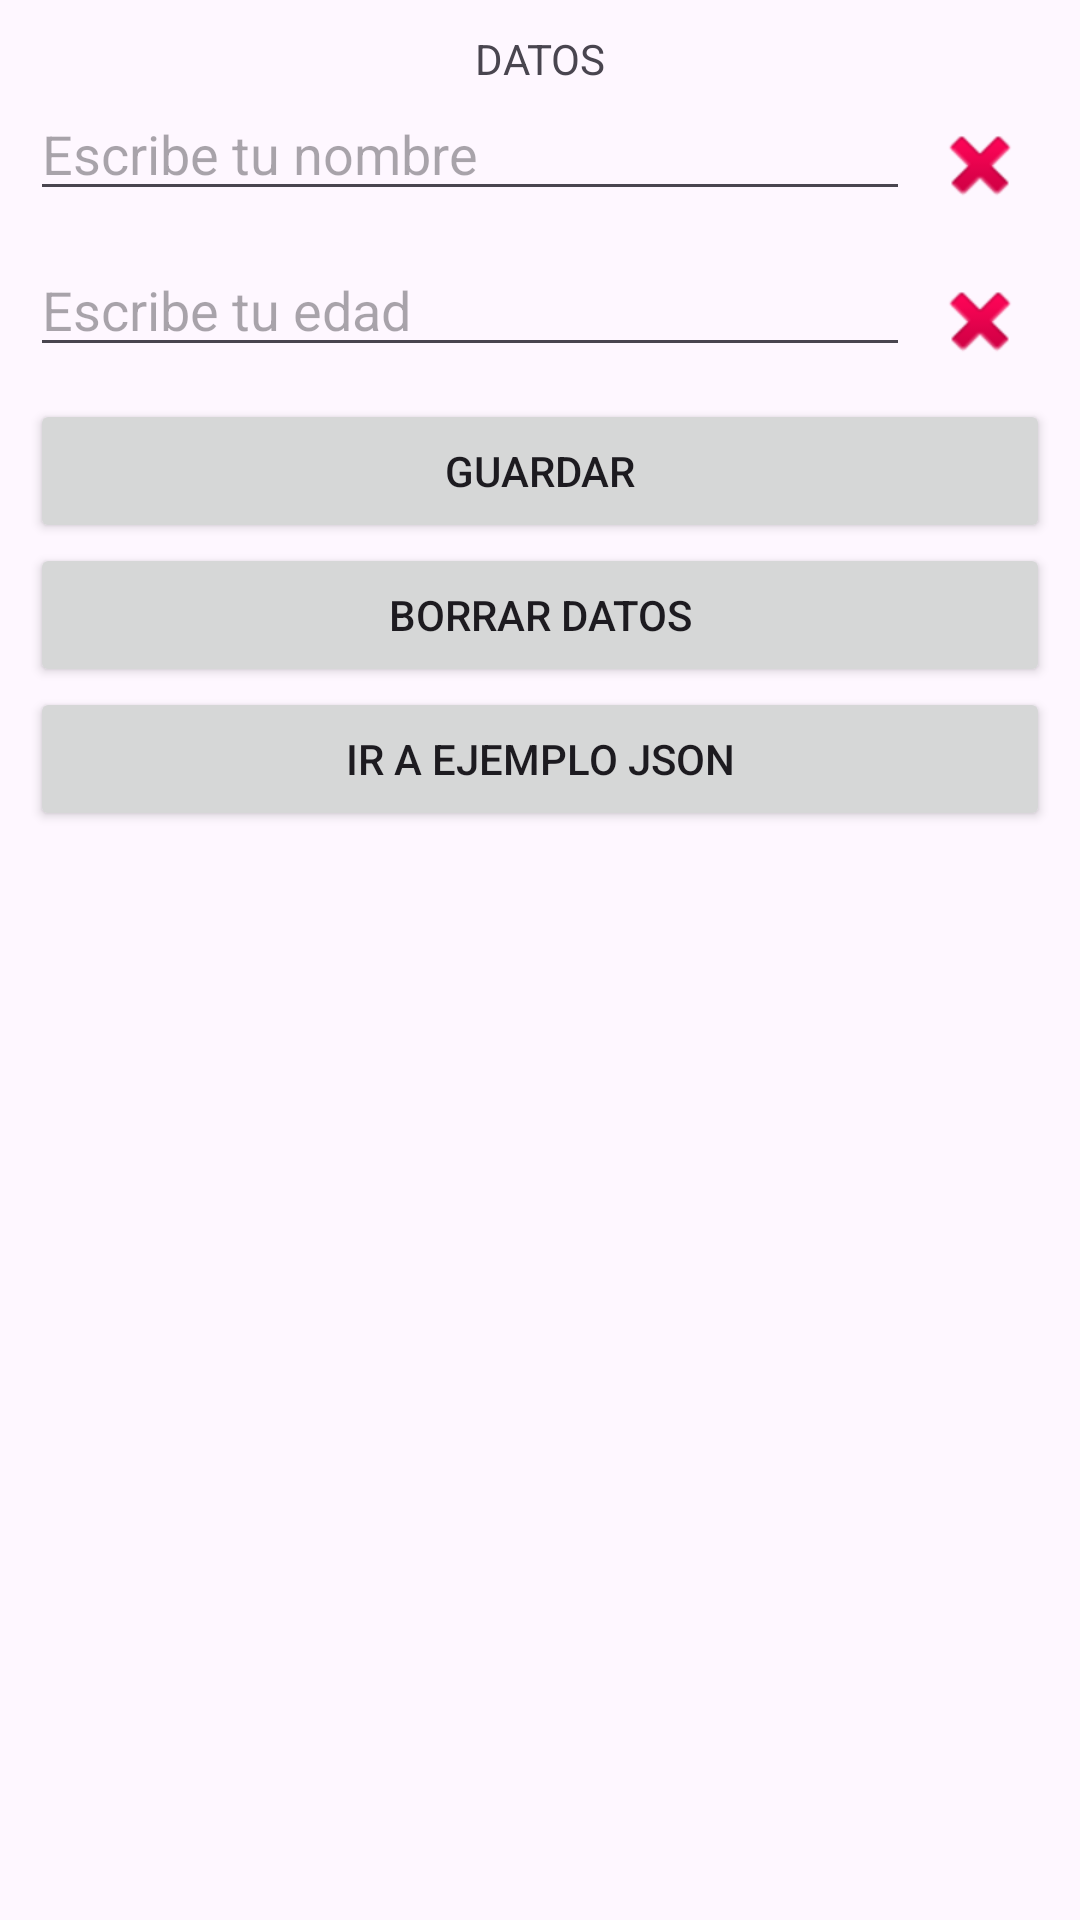

Point at icon controls on the screen. Image size 1080*1920, points as point (x, y).
delete: point (980, 165), point (980, 321)
